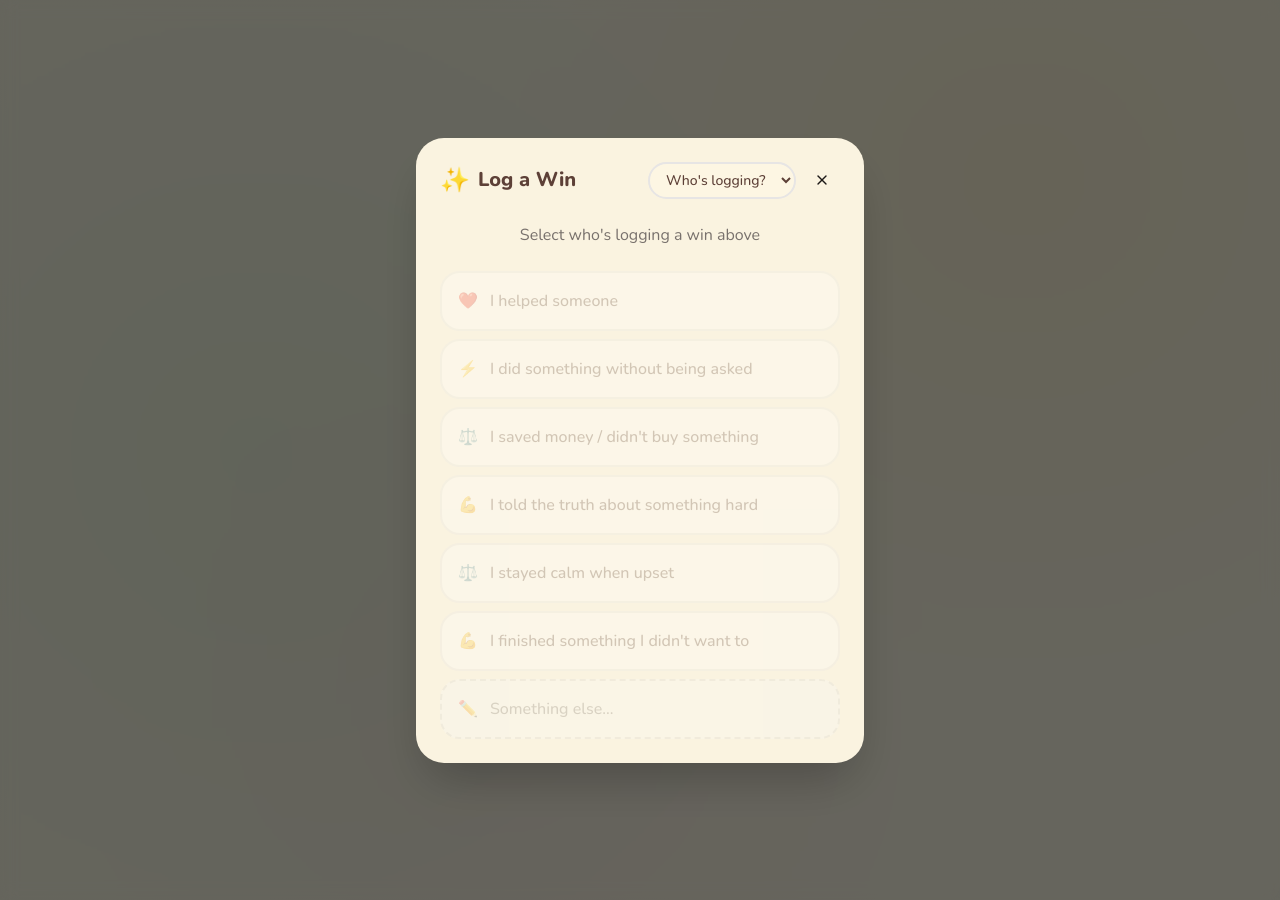
Scenario: SelfReportLog › Member Selection (Multiple Kids) › enables presets after member selected
Check: the button "❤️I helped someone" is disabled, box [440, 270, 840, 330]
# Select member
Select "👧 Emma" in the dropdown at x=722, y=180, box [648, 162, 796, 198]
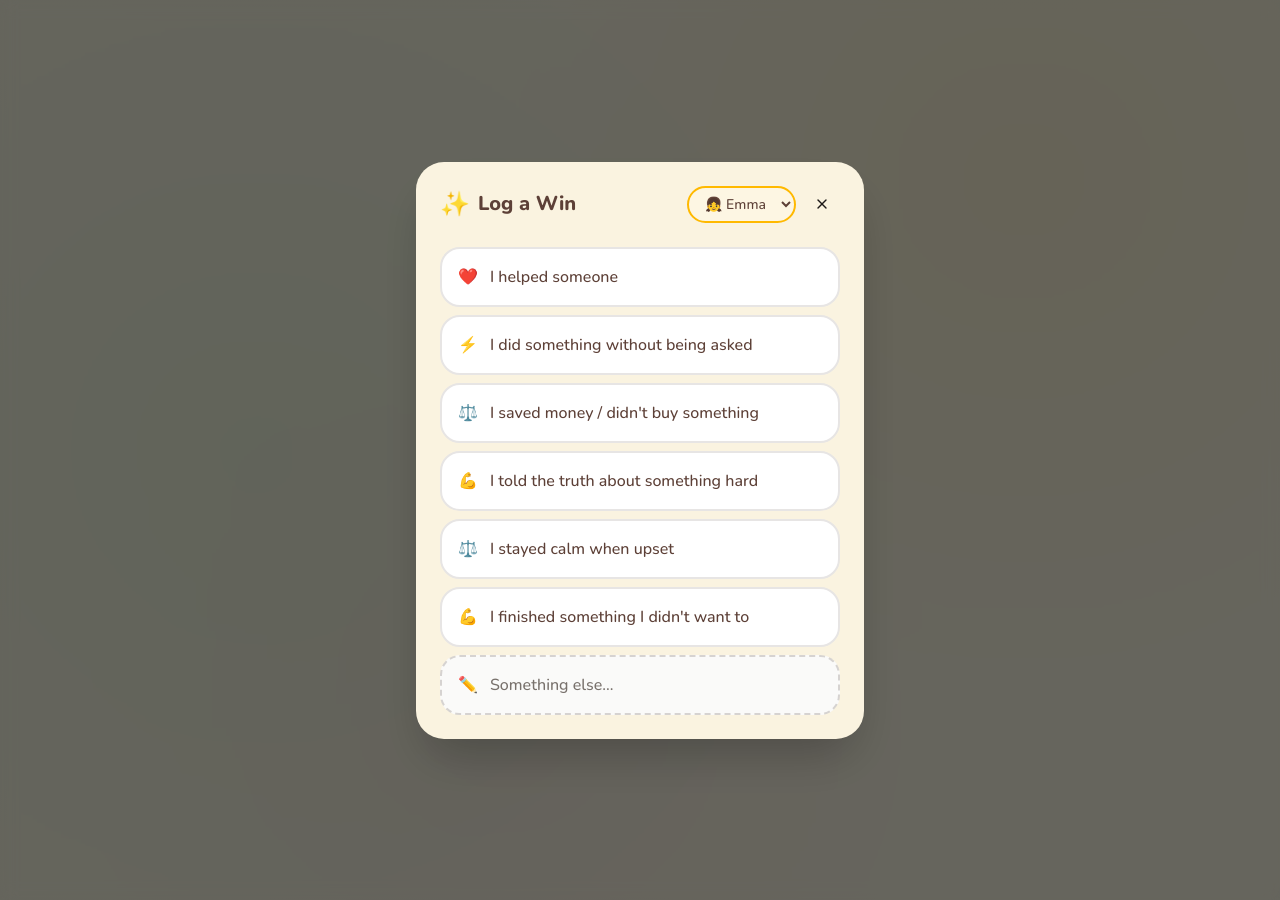
Check: the button "❤️I helped someone" is enabled, box [440, 246, 840, 306]
